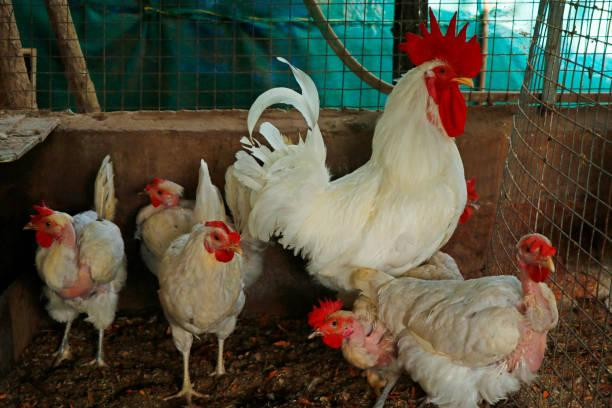AbNormal: (311, 234, 602, 408), (18, 153, 151, 372)
